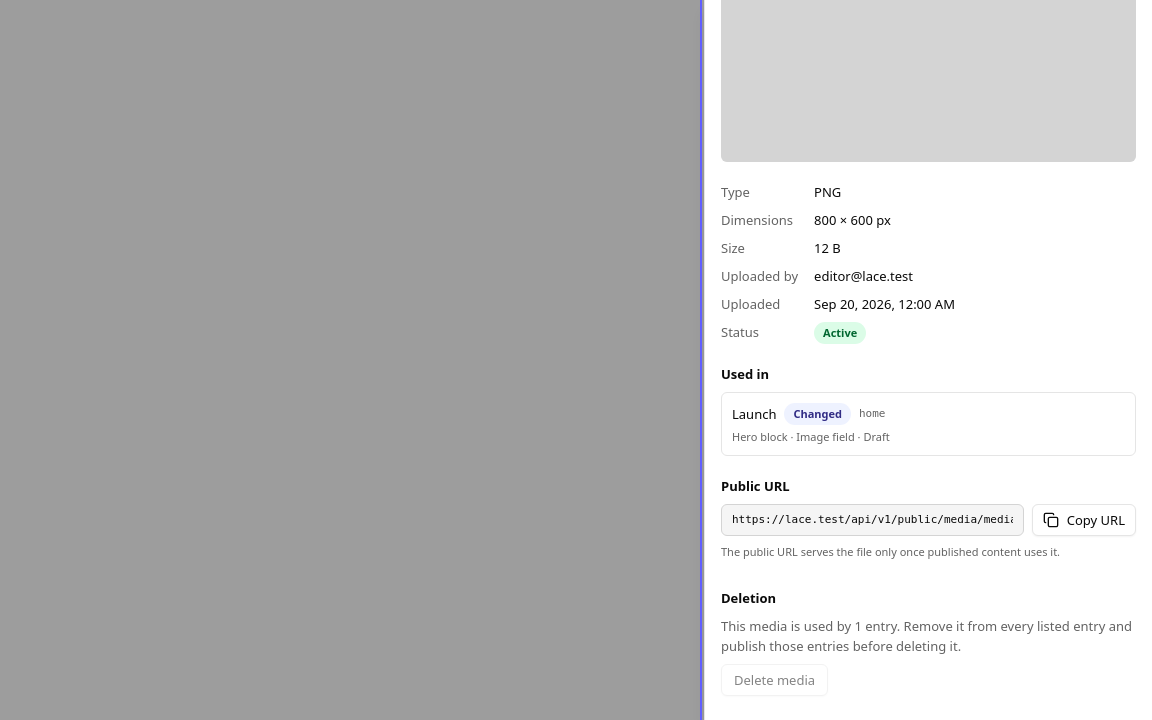
Scenario: copies the public URL and reports clipboard failures
(page scrolled)
Click the button "Copy URL" at (1084,520), box [1032,504,1136,536]
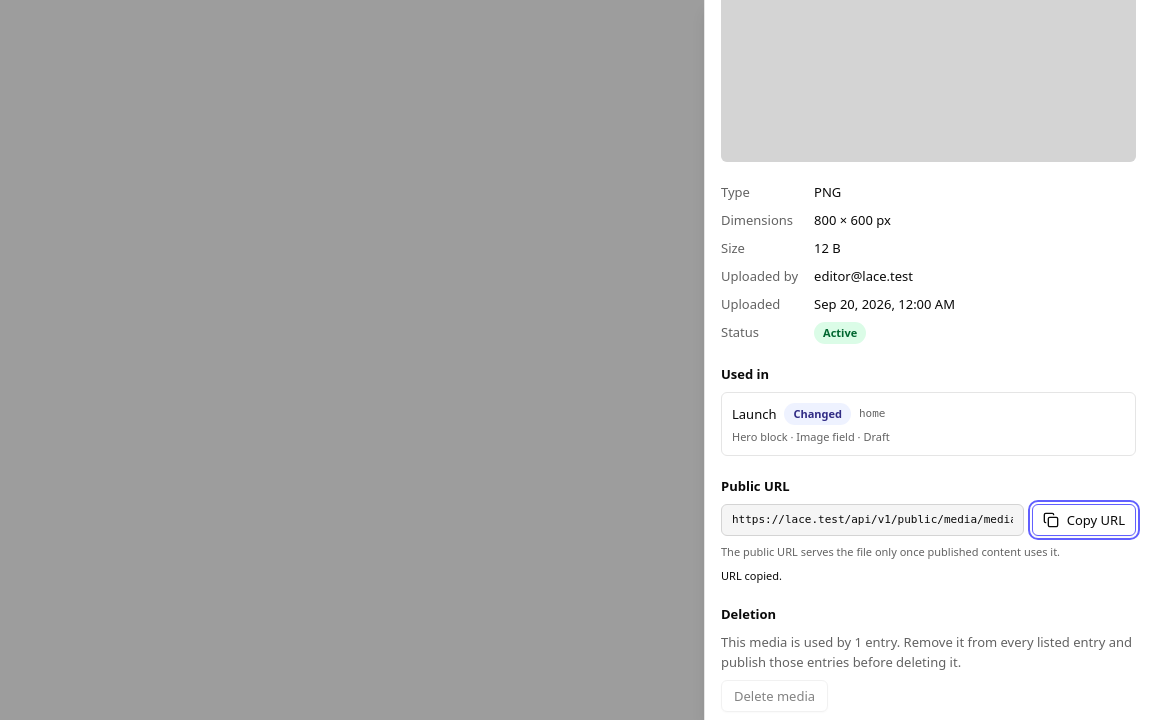
Click the button "Copy URL" at (1084,520), box [1032,504,1136,536]
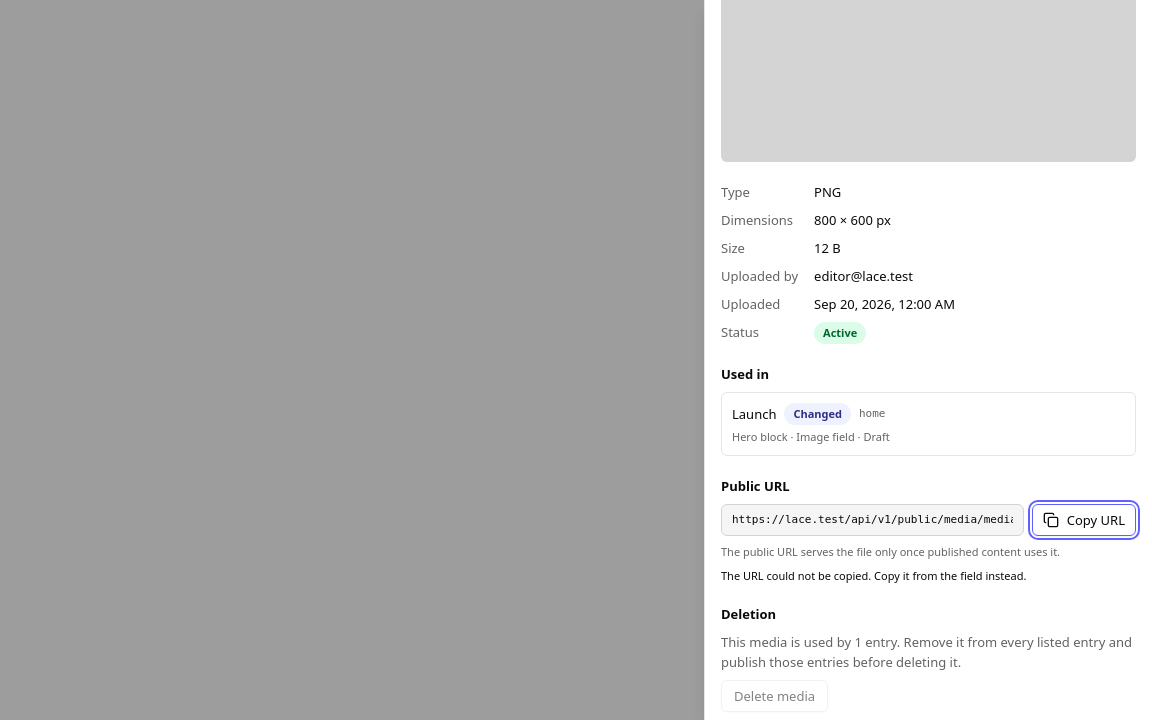
expect the text "only once published content uses it" is shown: met, box [721,544,1060,559]
expect the text "The URL could not be copied. Copy it from the field instead." is shown: met, box [721,568,1026,583]
